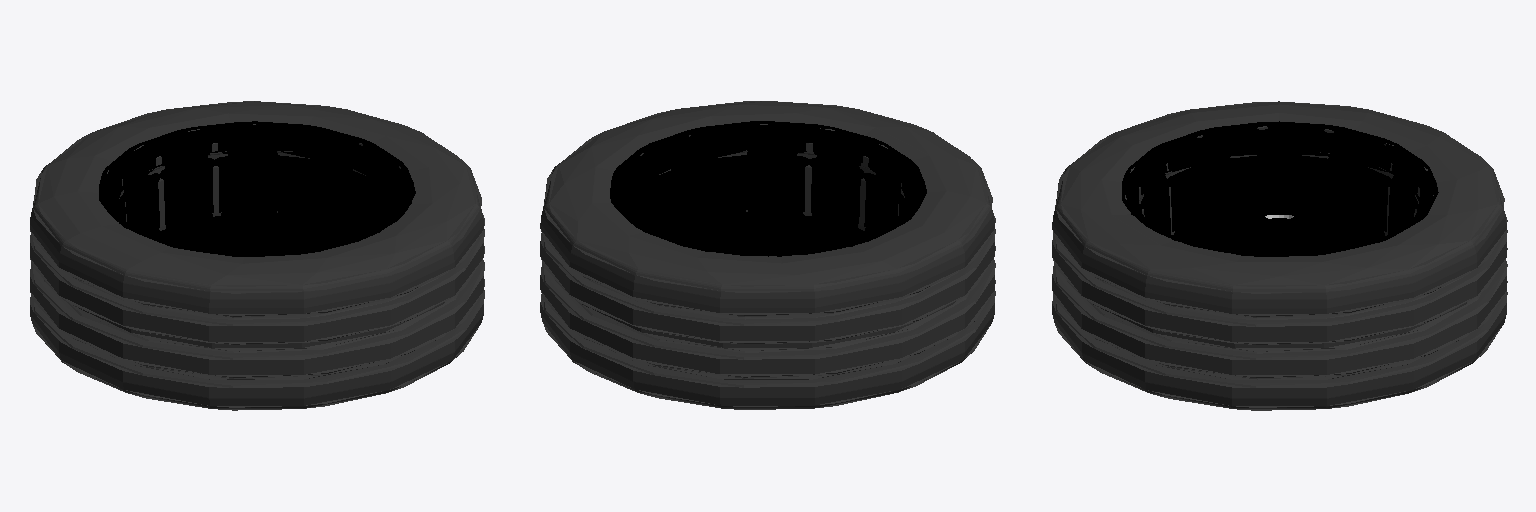
File: Nissan_Leaf_Wheel_Assembly_Right.obj
The picture shows the model from 3 angles: view 1: azimuth 30°, elevation 25°; view 2: azimuth 150°, elevation 25°; view 3: azimuth 270°, elevation 25°; orthographic projection.
Parts seen in each view (by area): view 1: Solid1, Solid1:1; view 2: Solid1, Solid1:1; view 3: Solid1, Solid1:1.
Part boxes in pixels (x1,y1,x2,y2): Solid1: (30,101,484,410); Solid1:1: (99,121,415,256); Solid1: (540,101,995,409); Solid1:1: (610,121,926,256); Solid1: (1052,101,1507,410); Solid1:1: (1122,121,1438,256).
Size of the model in its own units: 0.624 by 0.2052 by 0.624.